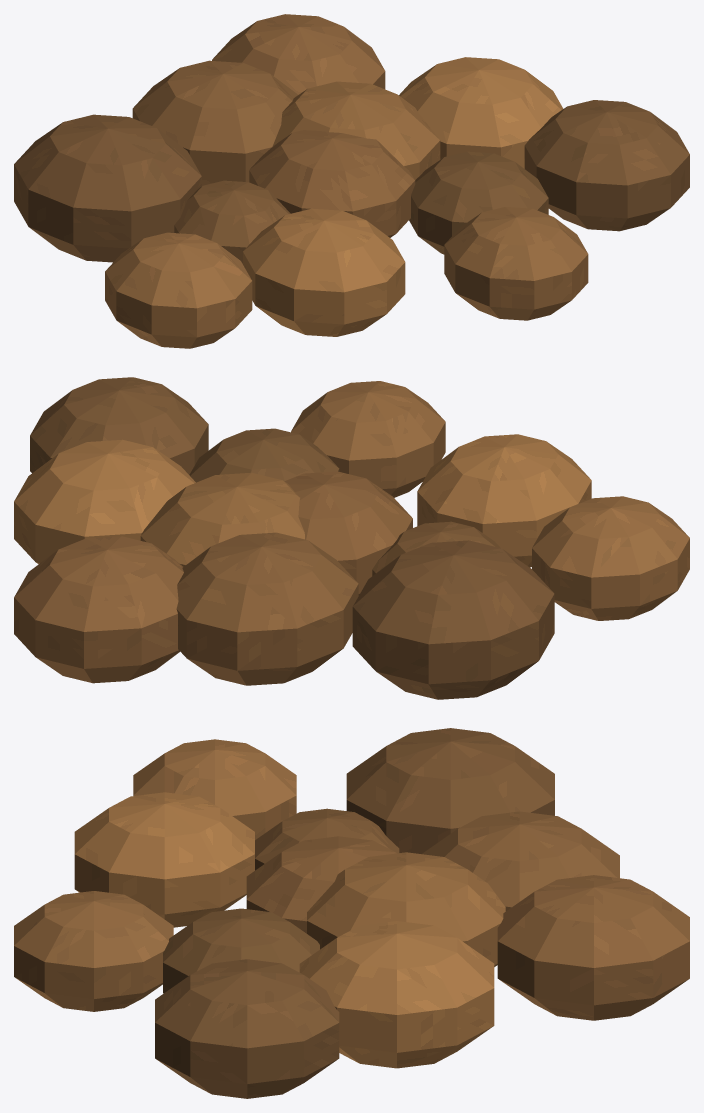
Rendered from hazelnut_shelled.glb.
3 renders of one model, top to bottom at view 1: azimuth 30°, elevation 25°; view 2: azimuth 150°, elevation 25°; view 3: azimuth 270°, elevation 25°, orthographic. The views are drawn at different scales.
Parts seen in each view (by area): view 1: block_grain 7, block_grain 11, block_grain 5, block_grain 10, block_grain 8, block_grain 4, block_grain 0, block_grain 6, block_grain 9, block_grain 3, block_grain 1, block_grain 2; view 2: block_grain 7, block_grain 4, block_grain 9, block_grain 10, block_grain 6, block_grain 5, block_grain 8, block_grain 11, block_grain 1, block_grain 0, block_grain 3, block_grain 2; view 3: block_grain 9, block_grain 6, block_grain 11, block_grain 5, block_grain 7, block_grain 8, block_grain 1, block_grain 4, block_grain 10, block_grain 3, block_grain 0, block_grain 2.
Boxes of the visible parts, box(x1,y1,x2,y2) form: block_grain 7: box(14, 114, 201, 262); block_grain 11: box(524, 100, 689, 231); block_grain 5: box(243, 208, 405, 336); block_grain 10: box(105, 232, 252, 348); block_grain 8: box(444, 207, 588, 320); block_grain 4: box(132, 60, 297, 185); block_grain 0: box(249, 130, 415, 237); block_grain 6: box(399, 57, 563, 168); block_grain 9: box(212, 14, 385, 94); block_grain 3: box(409, 151, 548, 254); block_grain 1: box(272, 81, 440, 179); block_grain 2: box(174, 180, 290, 263); block_grain 7: box(352, 540, 554, 699); block_grain 4: box(176, 532, 358, 685); block_grain 9: box(14, 536, 183, 683); block_grain 10: box(532, 496, 689, 620); block_grain 6: box(14, 439, 195, 564); block_grain 5: box(417, 434, 591, 567); block_grain 8: box(291, 381, 445, 497); block_grain 11: box(30, 377, 208, 474); block_grain 1: box(140, 472, 304, 566); block_grain 0: box(284, 471, 412, 595); block_grain 3: box(189, 428, 339, 482); block_grain 2: box(372, 521, 500, 575); block_grain 9: box(497, 875, 689, 1020); block_grain 6: box(299, 921, 494, 1068); block_grain 11: box(155, 959, 339, 1098); block_grain 5: box(74, 792, 254, 927); block_grain 7: box(346, 728, 554, 853); block_grain 8: box(14, 891, 173, 1011); block_grain 1: box(307, 852, 505, 966); block_grain 4: box(422, 811, 619, 911); block_grain 10: box(133, 739, 296, 839); block_grain 3: box(163, 908, 319, 993); block_grain 0: box(246, 836, 396, 933); block_grain 2: box(255, 808, 399, 870).
Size of the model in its own units: 0.0716 by 0.0144 by 0.0671.
1 material, 1 textured.
